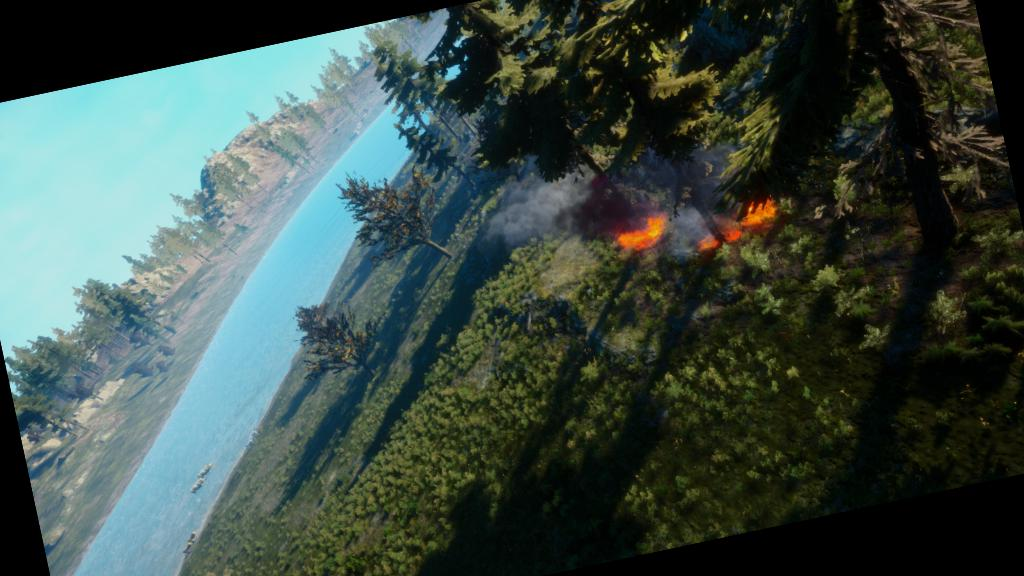Fire: (687, 189, 784, 256), (613, 214, 671, 258)
smoke: (476, 125, 752, 284)
